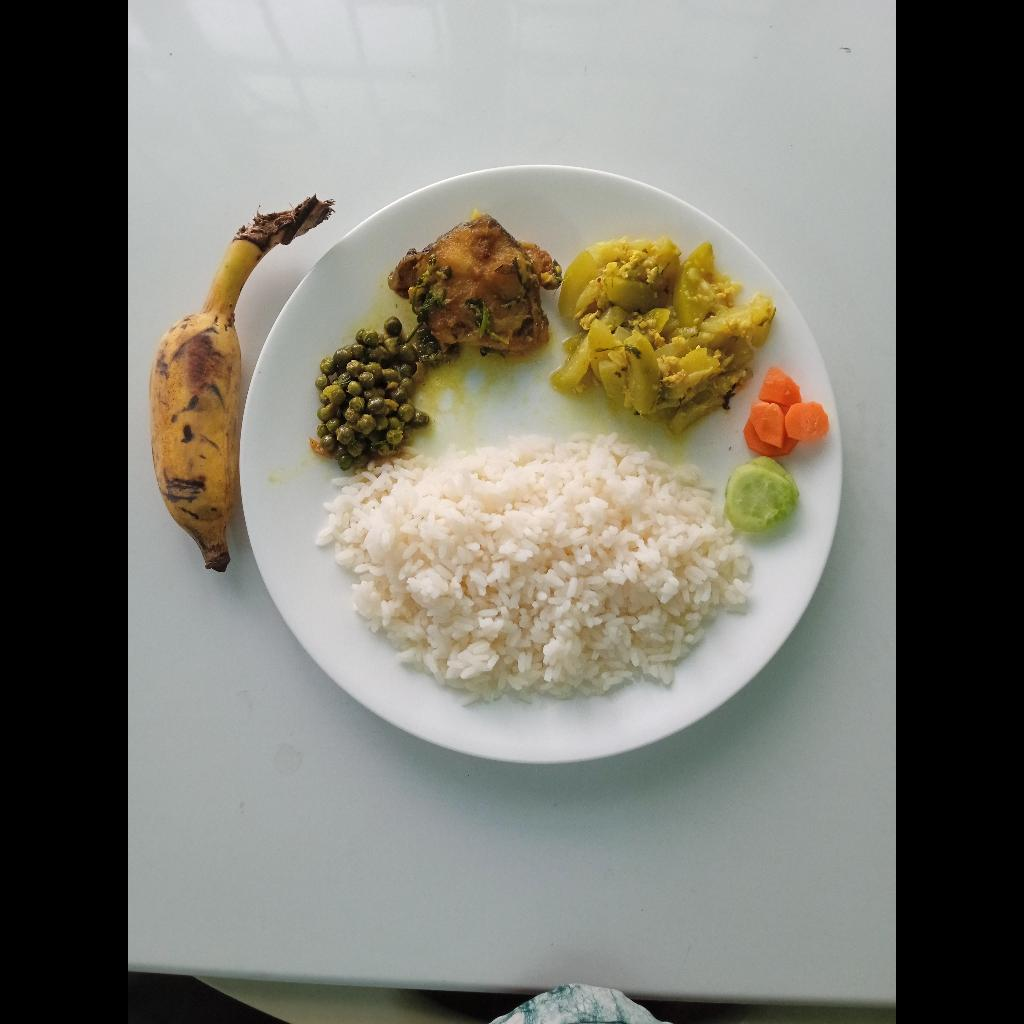banana: (154, 224, 280, 560)
carrot: (744, 372, 834, 442)
cucumber: (729, 460, 788, 527)
fish: (394, 215, 552, 357)
green-pea: (314, 316, 445, 453)
lau: (554, 245, 767, 420)
rice: (314, 436, 749, 692)
